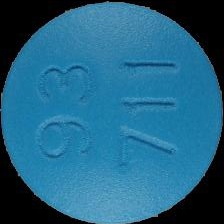63629-1250: (0, 0, 224, 224)
